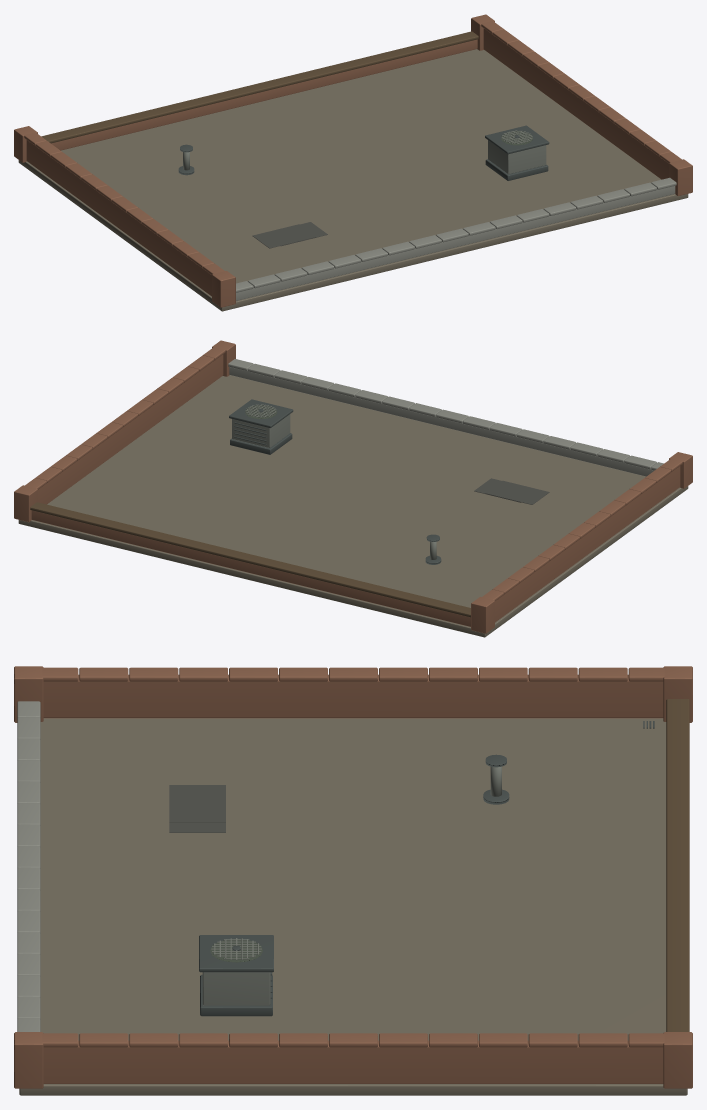
File: Pawnshop_Roof.fbx
3 views of the same model, one above another, from view 1: azimuth 30°, elevation 25°; view 2: azimuth 150°, elevation 25°; view 3: azimuth 270°, elevation 25° (orthographic). The views are drawn at different scales.
Parts seen in each view (by area): view 1: Pawnshop_Roof; view 2: Pawnshop_Roof; view 3: Pawnshop_Roof.
Boxes of the visible parts, box(x1,y1,x2,y2) form: Pawnshop_Roof: box(14, 14, 692, 311); Pawnshop_Roof: box(14, 340, 692, 637); Pawnshop_Roof: box(14, 666, 692, 1095).
Size of the model in its own units: 1655 by 131 by 1255.
